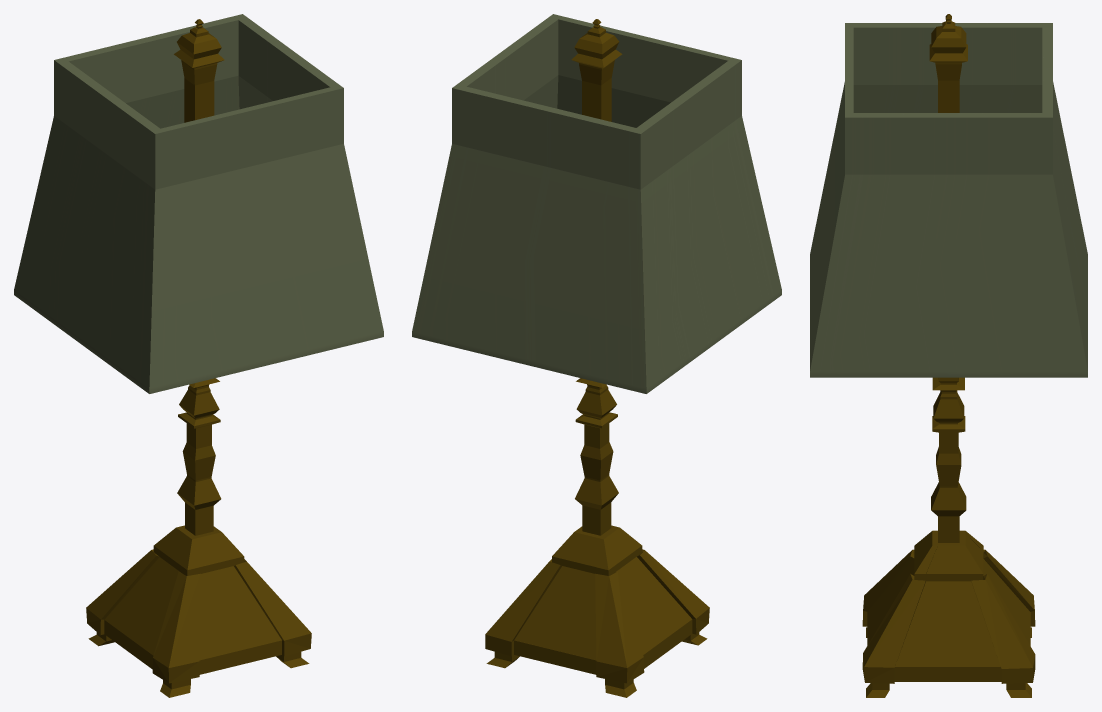
The model's file is lampFBX.fbx.
The picture shows the model from 3 angles, left to right: view 1: azimuth 30°, elevation 25°; view 2: azimuth 150°, elevation 25°; view 3: azimuth 270°, elevation 25°; orthographic projection. The views are drawn at different scales.
Visible parts, largest first — view 1: shade, lamp; view 2: shade, lamp; view 3: shade, lamp.
Part boxes in pixels (x1,y1,x2,y2): shade: [14, 14, 383, 393]; lamp: [86, 19, 311, 697]; shade: [412, 14, 781, 393]; lamp: [485, 19, 709, 697]; shade: [810, 23, 1087, 377]; lamp: [862, 14, 1035, 697].
Size of the model in its own units: 1.7 by 4.38 by 1.7.
2 materials, 1 textured.
